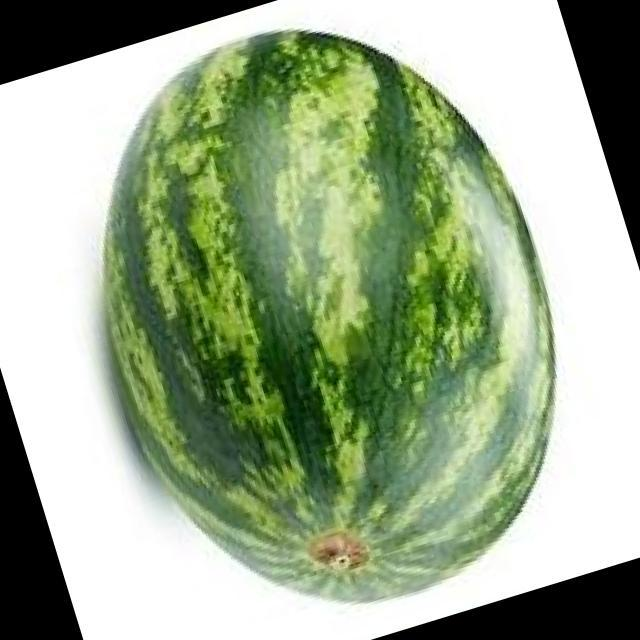watermelon: (104, 31, 551, 600)
